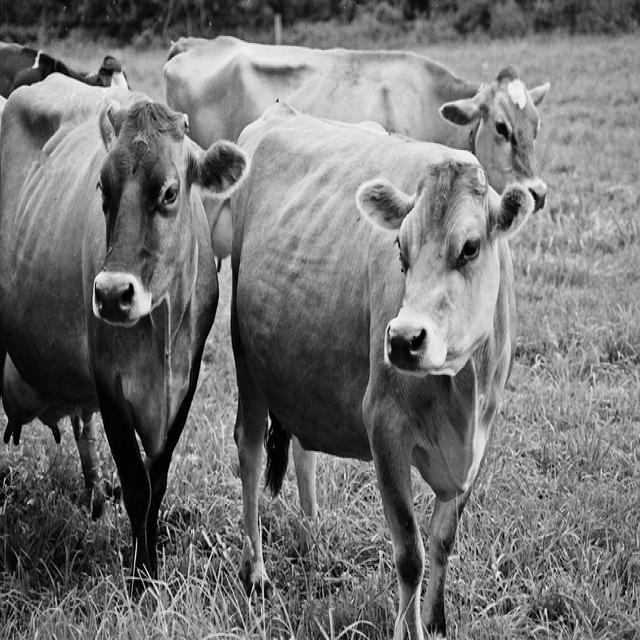cow: (229, 107, 535, 639), (0, 71, 246, 584), (155, 31, 551, 271), (0, 42, 134, 104)
